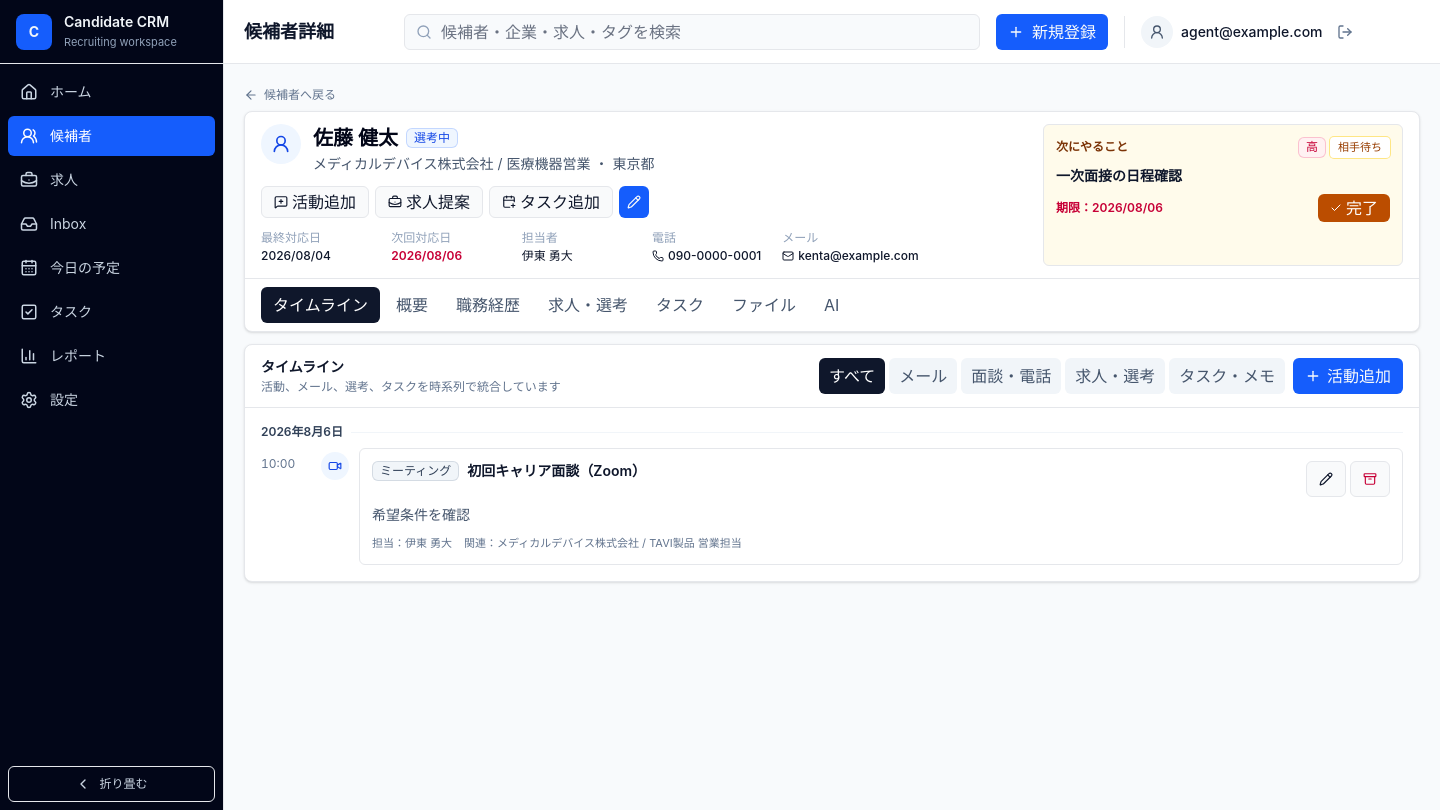
Candidate CRM Phase 2.5 routes › 候補者の次回対応を確認後に完了できる
The image size is (1440, 810).
expect the heading "佐藤 健太" is shown: met, box [313,124,398,152]
Click the button "完了". click: (1354, 208)
box: [1318,194,1390,222]
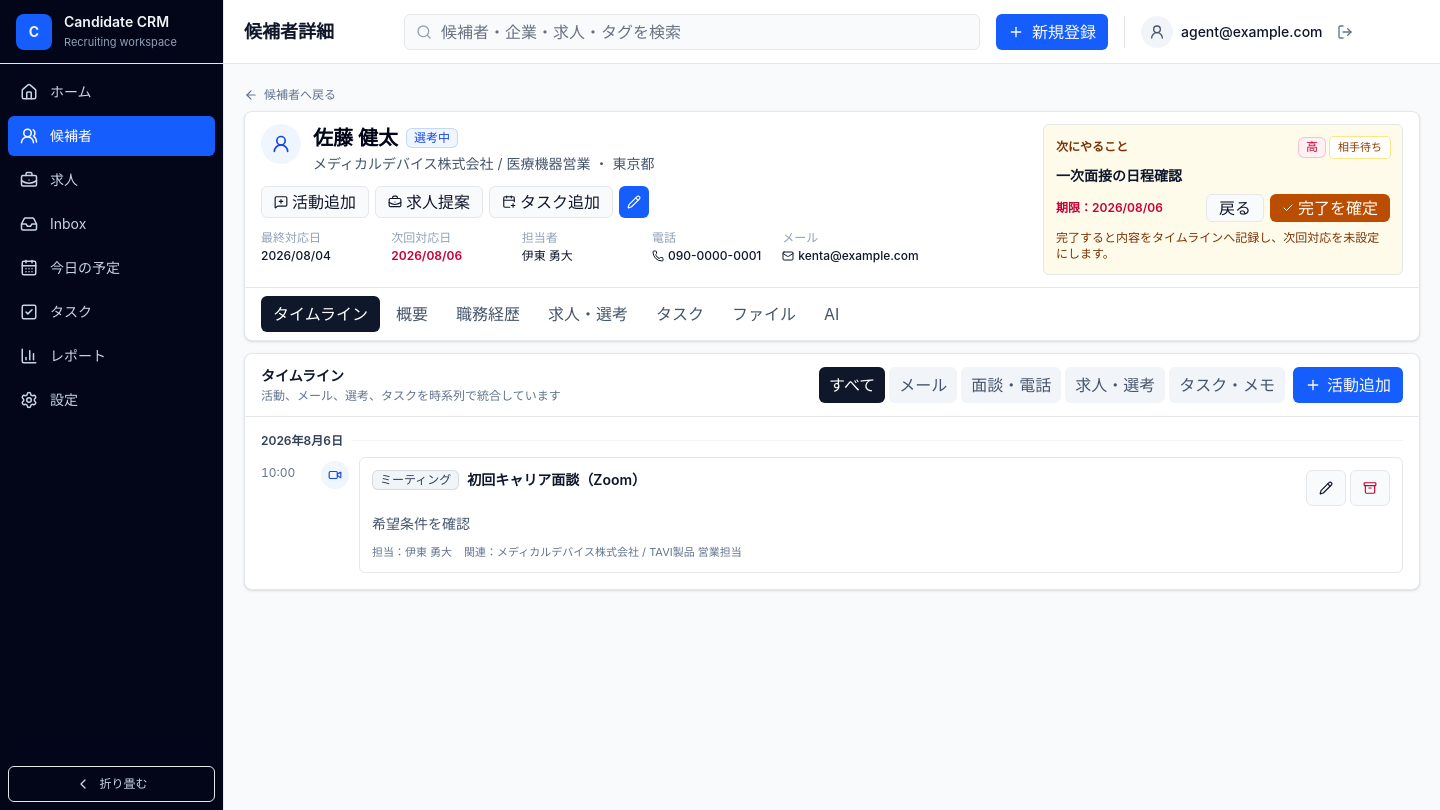
expect the text "完了すると内容をタイムラインへ記録し、次回対応を未設定にします。" is shown: met, box [1056,230,1390,262]
Click the button "完了を確定". click: (1330, 208)
box: [1270,194,1390,222]
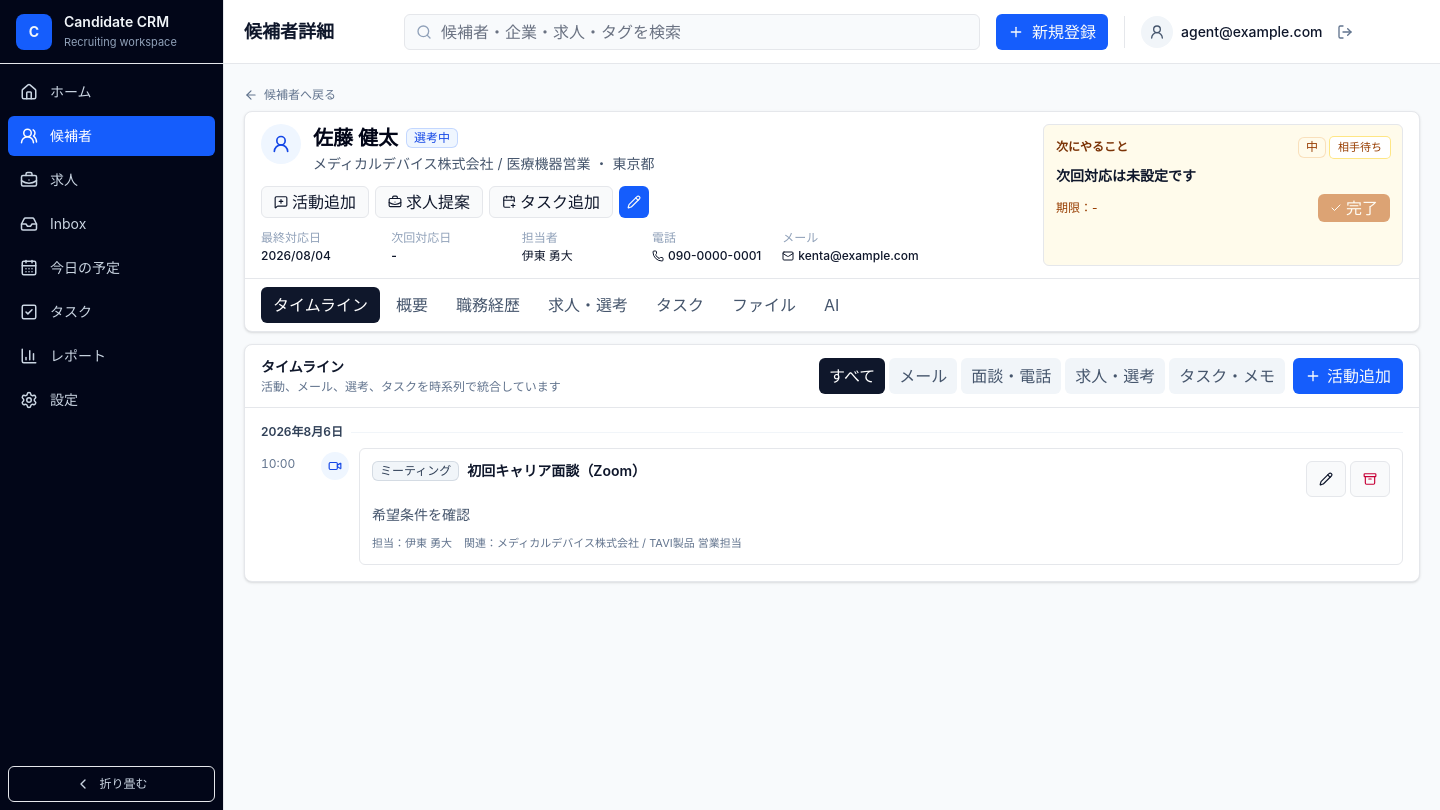
expect the text "次回対応は未設定です" is shown: met, box [1056,166,1196,184]
